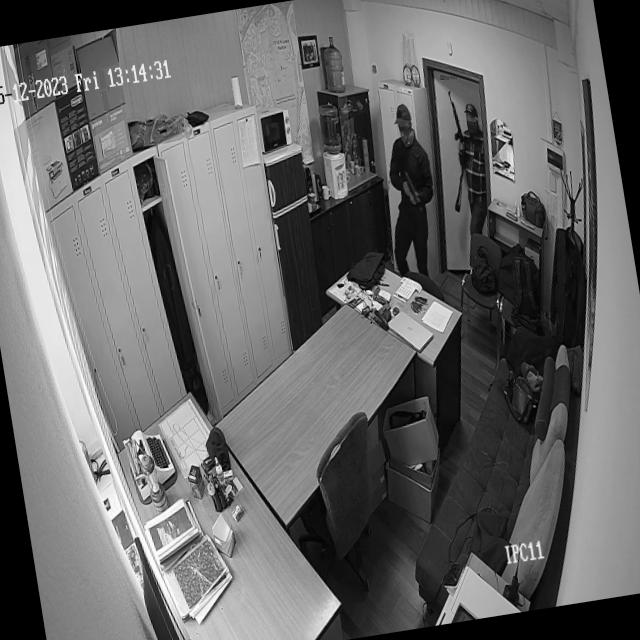gun: (446, 89, 468, 158), (400, 164, 424, 213)
person with a gun: (378, 102, 440, 275), (454, 100, 499, 242)
